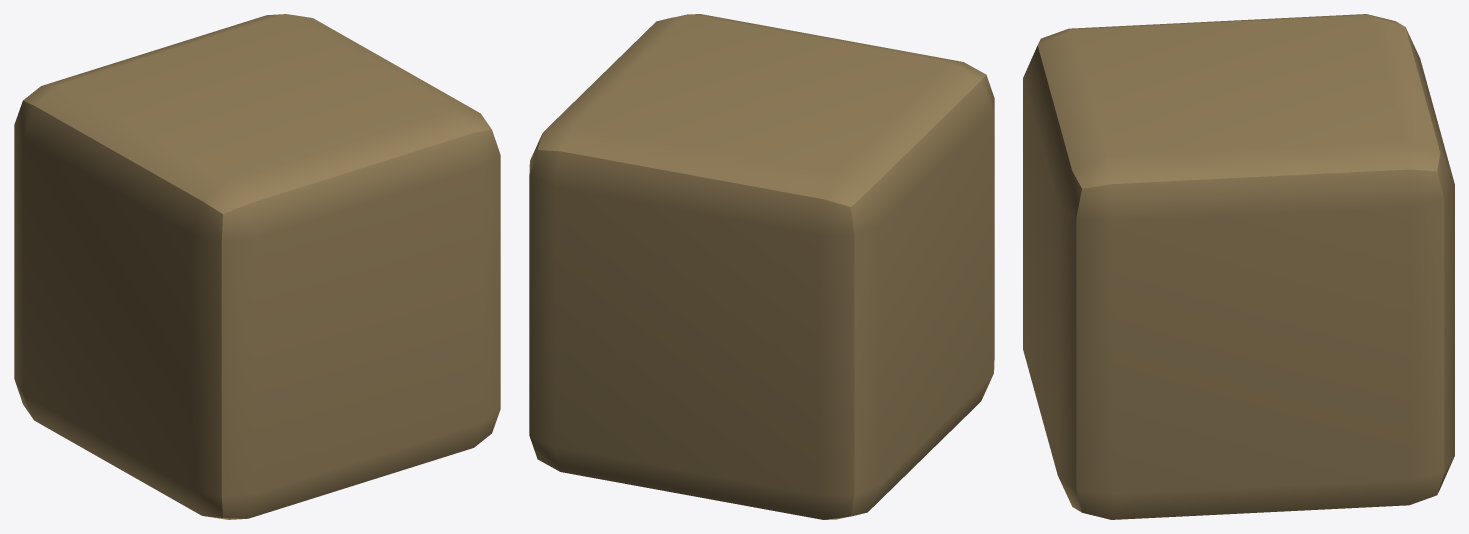
Rendered from block_lrg.fbx.
3 renders of one model, left to right at view 1: azimuth 30°, elevation 25°; view 2: azimuth 150°, elevation 25°; view 3: azimuth 270°, elevation 25°, orthographic. The views are drawn at different scales.
Parts seen in each view (by area): view 1: block_lrg; view 2: block_lrg; view 3: block_lrg.
Boxes of the visible parts, left/top/right/bottom form: block_lrg: left=14, top=14, right=500, bottom=519; block_lrg: left=529, top=14, right=994, bottom=519; block_lrg: left=1023, top=14, right=1454, bottom=519.
Size of the model in its own units: 54 by 50 by 54.
